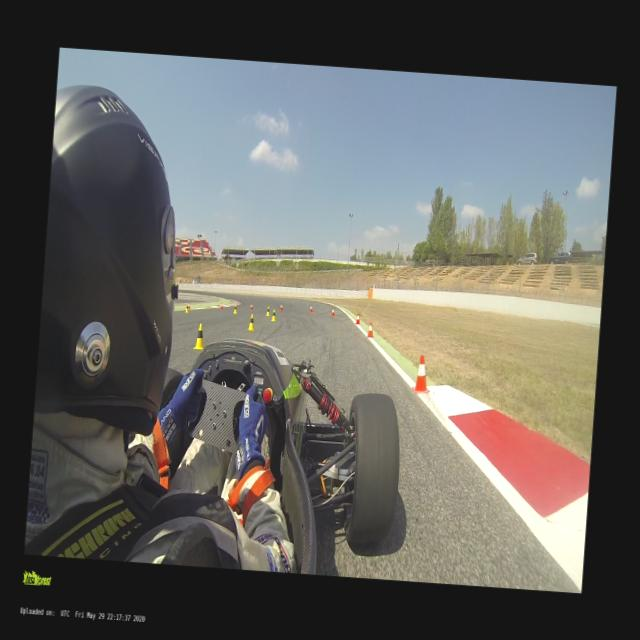orange_cone: (411, 354, 432, 396), (366, 322, 374, 338), (354, 312, 360, 324), (330, 306, 334, 316), (279, 302, 283, 310), (308, 305, 312, 313), (249, 303, 253, 310), (219, 302, 222, 310), (187, 302, 190, 310)
yellow_cone: (192, 322, 206, 349), (247, 312, 255, 330), (270, 308, 276, 321), (232, 304, 237, 314), (265, 306, 270, 316), (184, 304, 188, 312)
